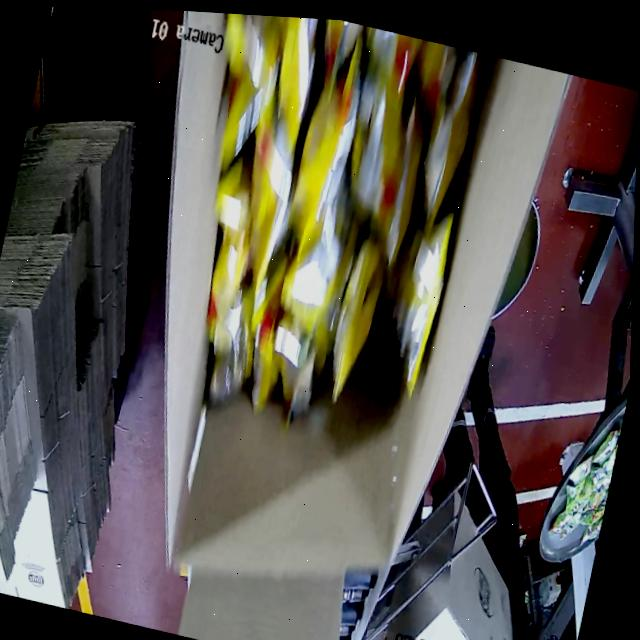SALTED: (153, 10, 508, 450)
